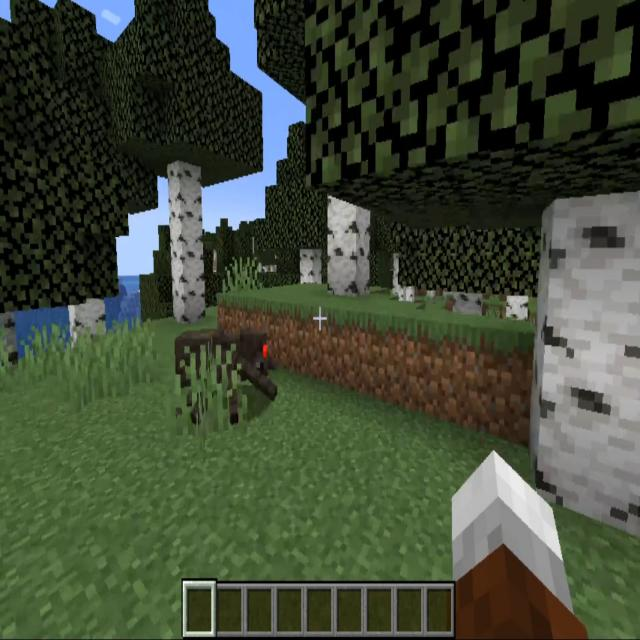Spider: (178, 324, 278, 424)
